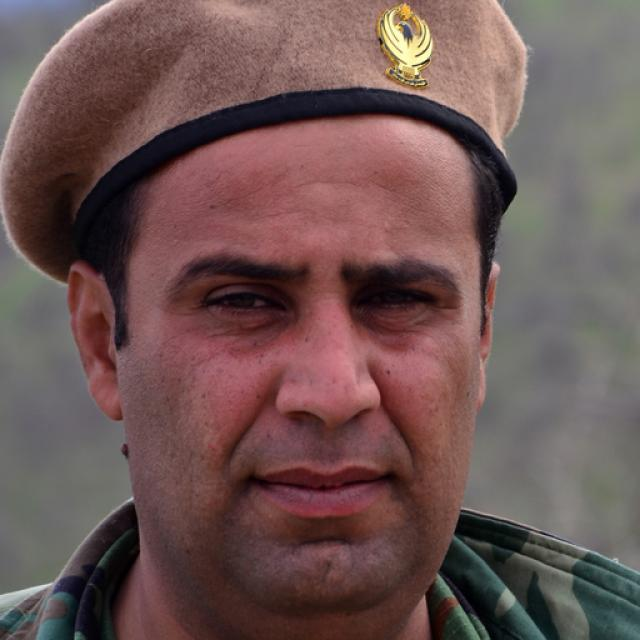anger: (122, 110, 482, 618)
